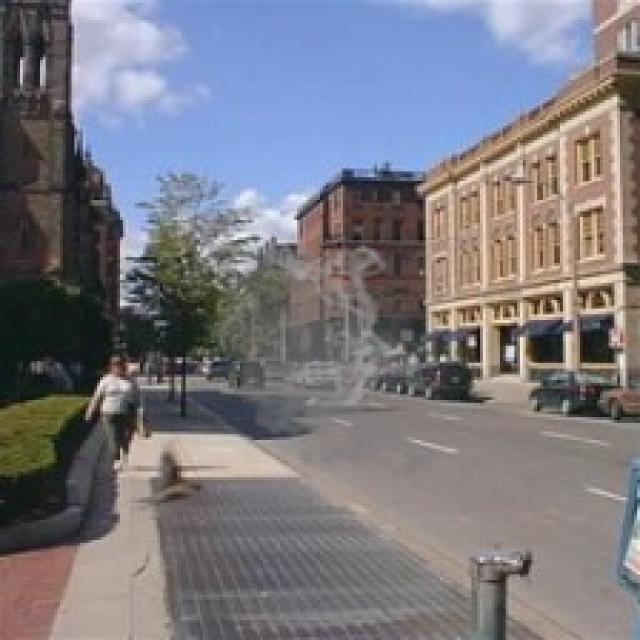Smoke: (192, 237, 468, 483)
